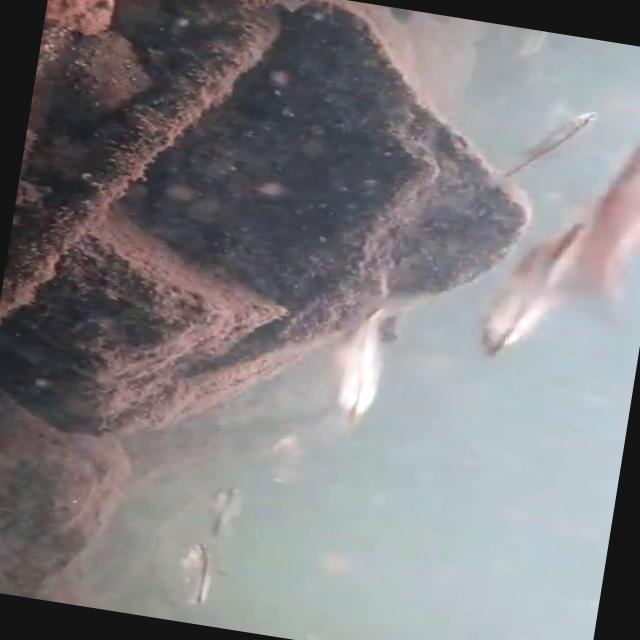Cakil Baligi: (481, 214, 604, 360), (492, 100, 602, 191), (327, 303, 386, 422), (162, 538, 234, 618)
